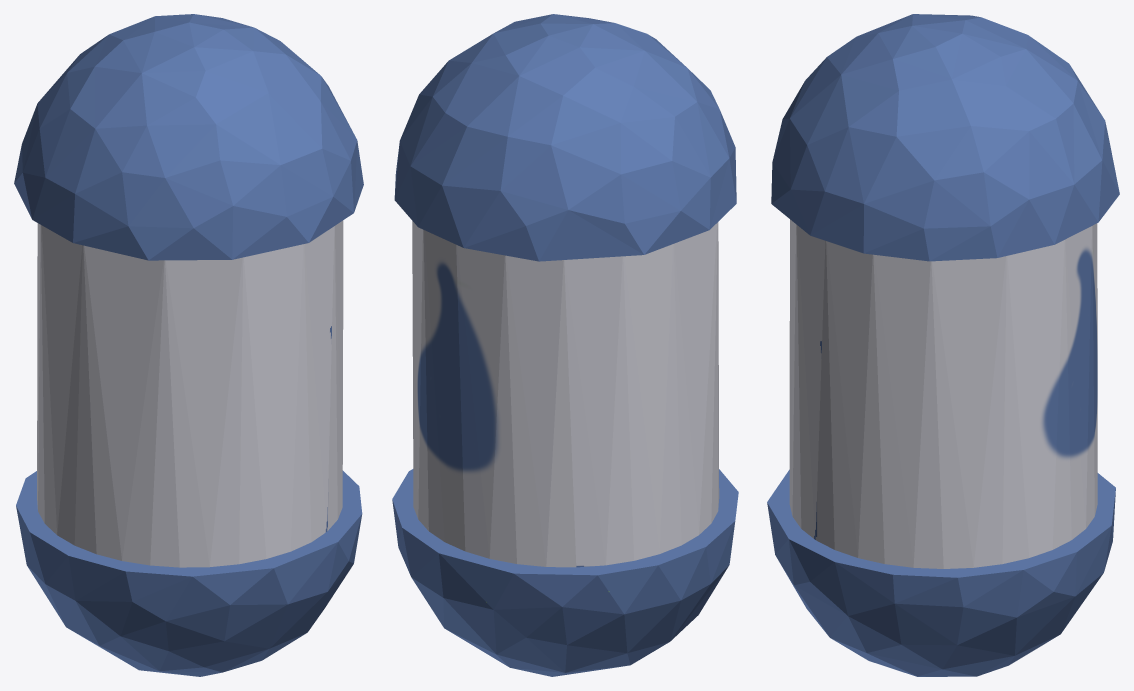
Rendered from good_capsule.glb.
3 views of the same model, side by side, from view 1: azimuth 30°, elevation 25°; view 2: azimuth 150°, elevation 25°; view 3: azimuth 270°, elevation 25° (orthographic).
Visible parts, largest first — view 1: Sphere.001; view 2: Sphere.001; view 3: Sphere.001.
Part boxes in pixels (<box>): Sphere.001: <box>14,14,363,676</box>; Sphere.001: <box>392,14,738,676</box>; Sphere.001: <box>767,14,1119,676</box>.
Size of the model in its own units: 0.7508 by 1.5 by 0.7581.
1 material, 1 textured.
